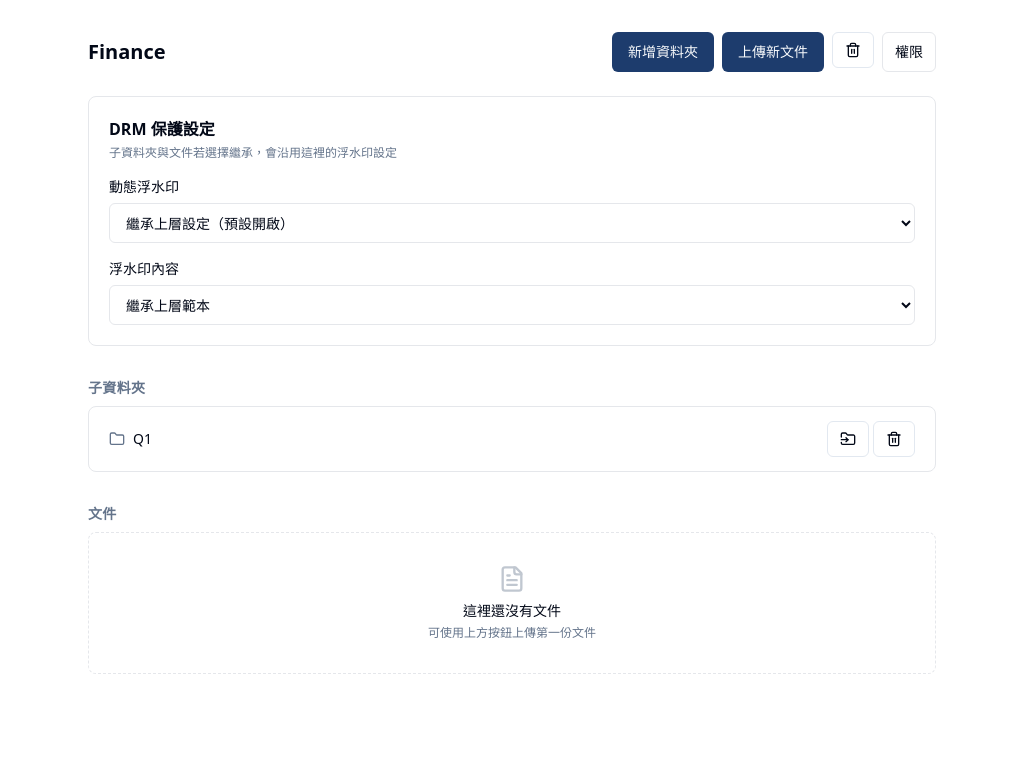
Test: FolderView › shows a failed row delete error inside the still-open DeleteConfirmDialog
Click the button with test id "delete-folder-child-1". click: [894, 439]
box: [873, 421, 915, 457]
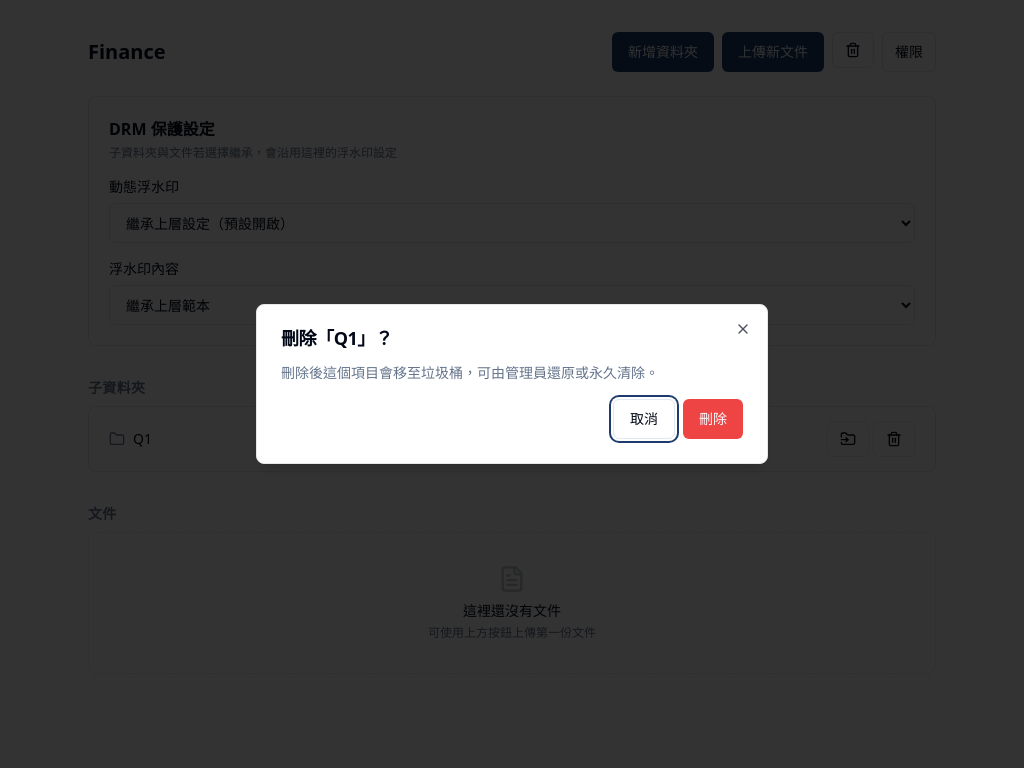
Result: the button with test id "confirm-delete" is shown
Click the button with test id "confirm-delete". click: [713, 419]
box: [683, 399, 743, 439]
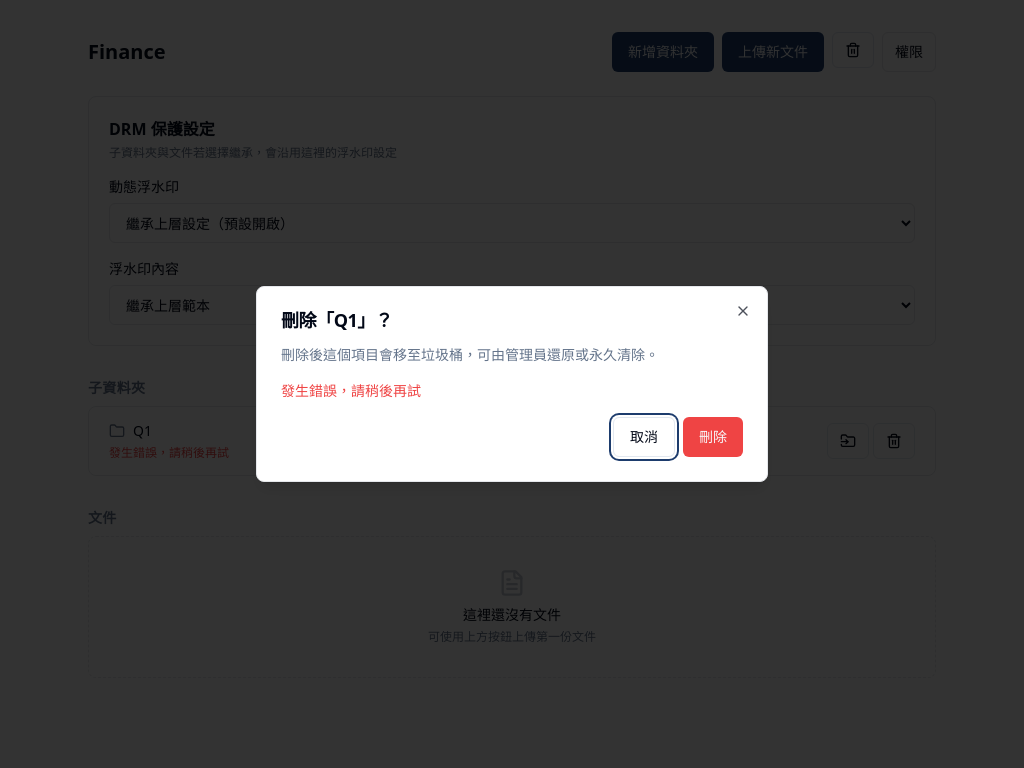
Result: the button with test id "confirm-delete" is shown at [683, 417, 743, 457]
Result: the text "發生錯誤，請稍後再試" is shown at [281, 381, 421, 400]
